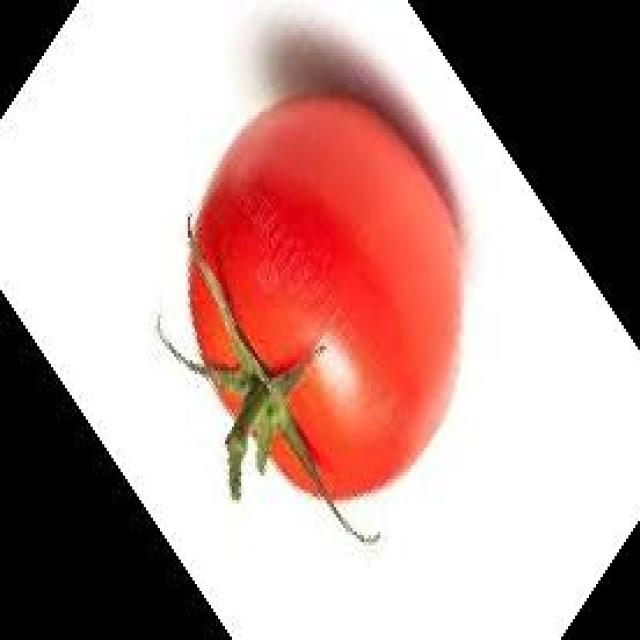Tomato: (185, 87, 467, 503)
